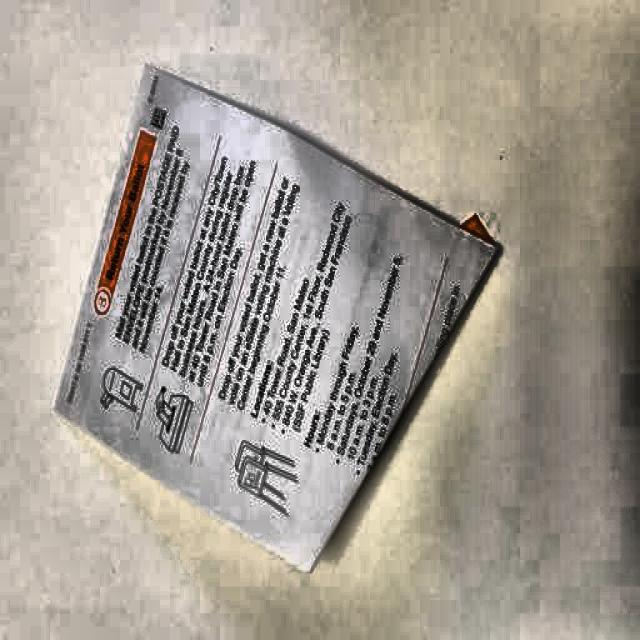paper: (50, 62, 505, 574)
